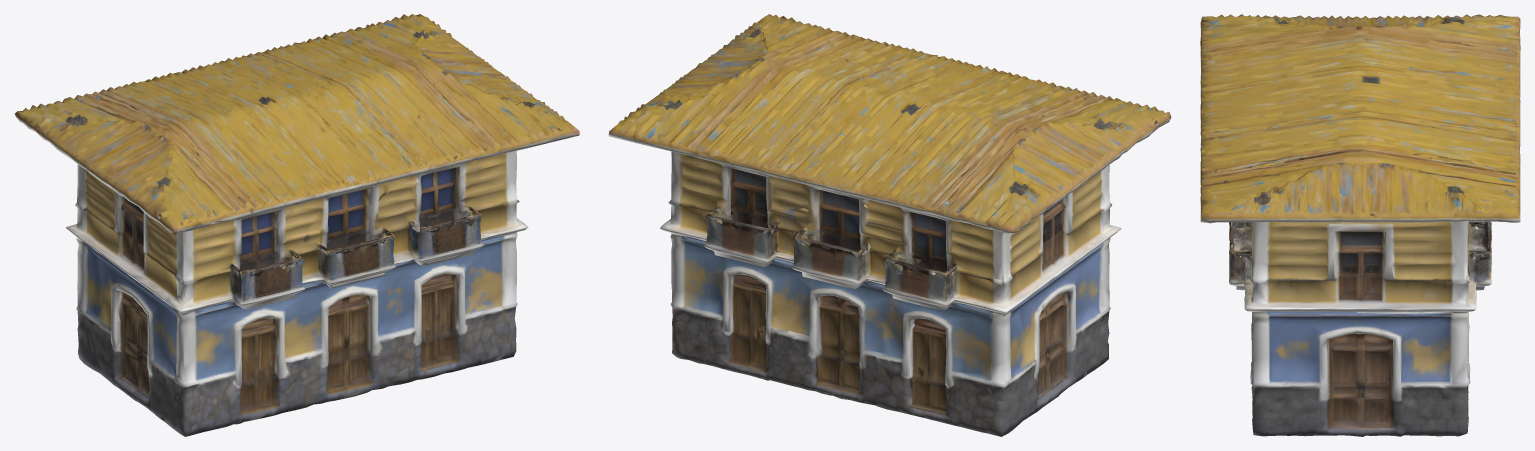
File: cas2.fbx
3 views of the same model, side by side, from view 1: azimuth 30°, elevation 25°; view 2: azimuth 150°, elevation 25°; view 3: azimuth 270°, elevation 25° (orthographic).
Visible parts, largest first — view 1: input; view 2: input; view 3: input.
Part boxes in pixels (left/top/right/bottom): input: left=14, top=14, right=579, bottom=436; input: left=608, top=14, right=1171, bottom=436; input: left=1200, top=14, right=1520, bottom=436.
Size of the model in its own units: 191 by 118 by 130.
Materials: 1 (1 with a texture image).
